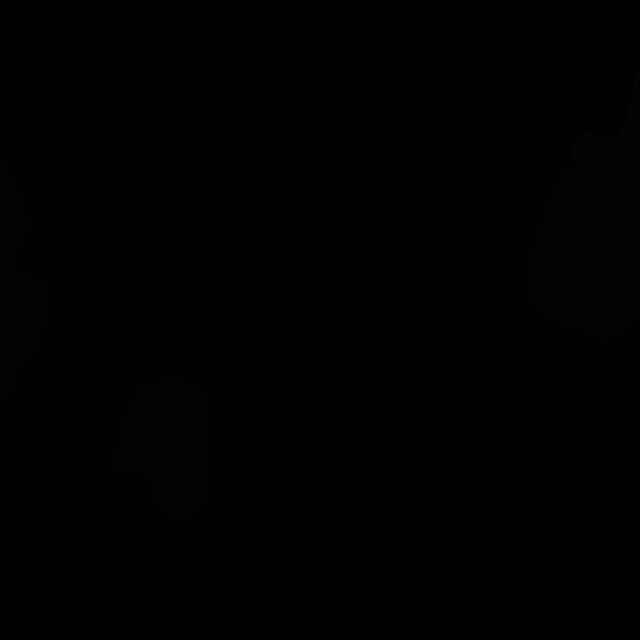cardboard: (523, 161, 640, 345), (108, 368, 214, 524), (0, 259, 53, 409), (0, 142, 34, 266)
soft_plastic: (571, 59, 640, 177)
